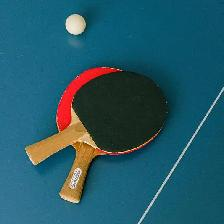WhiteBall: (64, 13, 86, 35)
